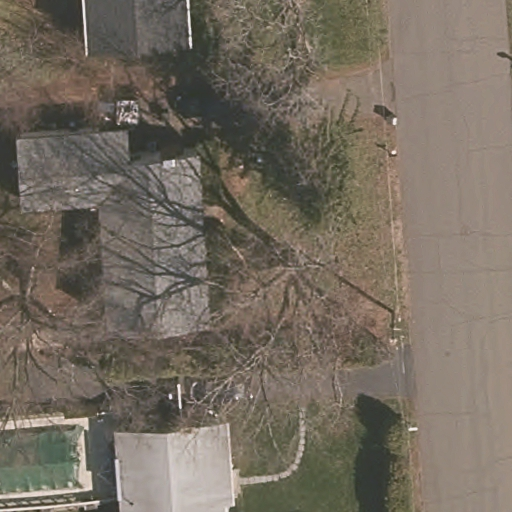DT: (381, 293, 407, 350)
